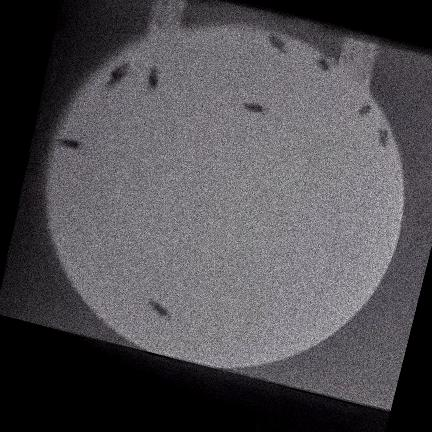fly: (105, 63, 128, 89), (148, 301, 170, 319), (147, 66, 159, 92), (56, 138, 81, 150), (268, 35, 285, 52), (242, 102, 266, 114), (315, 57, 329, 72), (377, 129, 388, 147), (275, 14, 294, 23), (358, 105, 371, 116)
